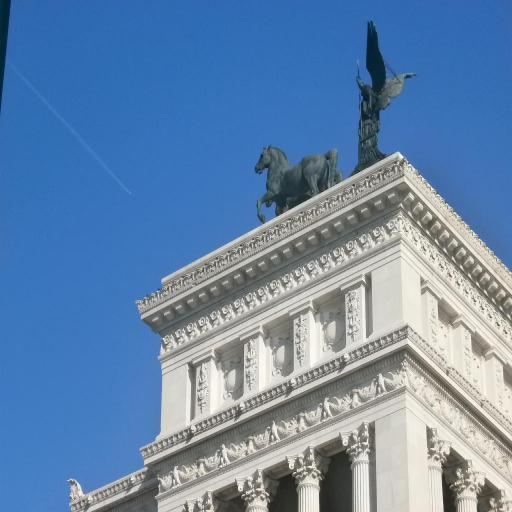horse: (256, 146, 344, 226)
